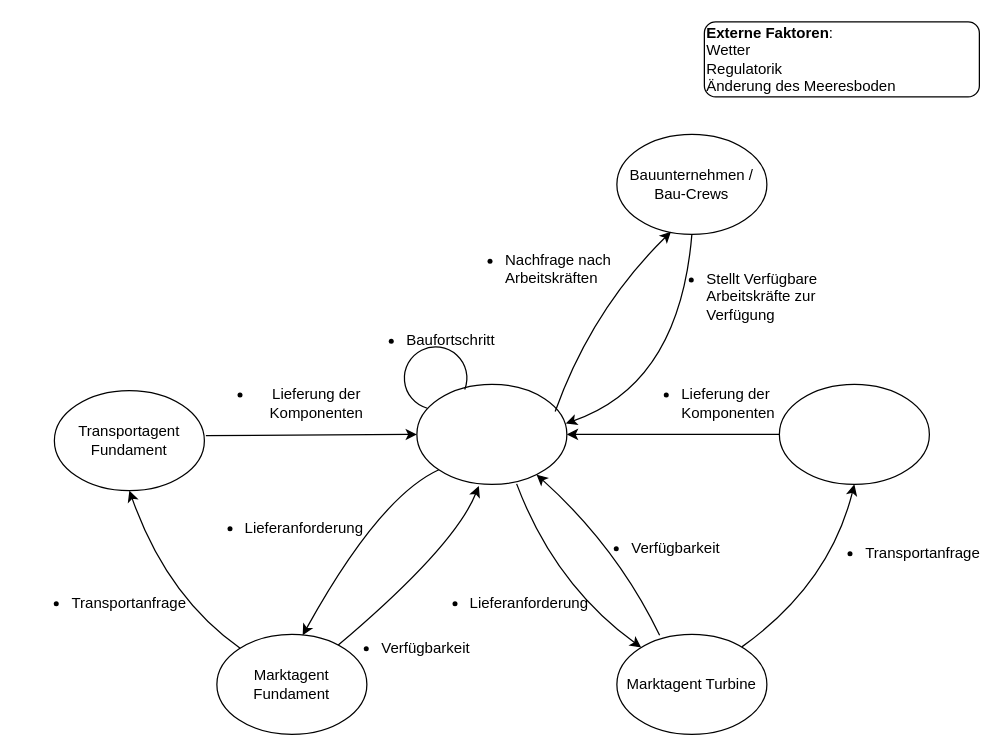
This 1001x756 diagram has some shape labels left out. The centre of each missing label's shape, as x and y in pixels:
Projektgesellschaft: the point at 491,433
Transportagent Turbine: the point at 853,433
